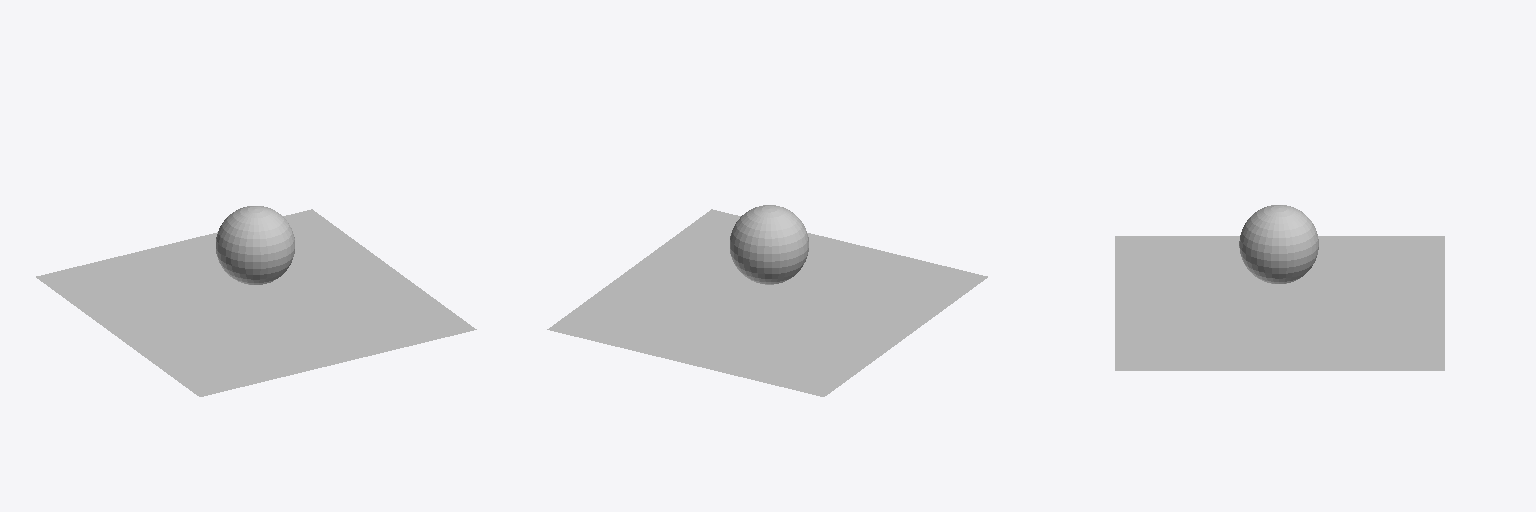
Rendered from normaleint.obj.
The picture shows the model from 3 angles: view 1: azimuth 30°, elevation 25°; view 2: azimuth 150°, elevation 25°; view 3: azimuth 270°, elevation 25°; orthographic projection.
Parts seen in each view (by area): view 1: Plane001, Sphere001; view 2: Plane001, Sphere001; view 3: Plane001, Sphere001.
Part boxes in pixels (x1,y1,x2,y2): Plane001: (36,209,476,396); Sphere001: (216,206,294,284); Plane001: (547,209,987,396); Sphere001: (730,205,808,284); Plane001: (1115,236,1444,370); Sphere001: (1239,205,1318,283).
Bounding box in the file's own units: 16396 × 5350 × 16878.